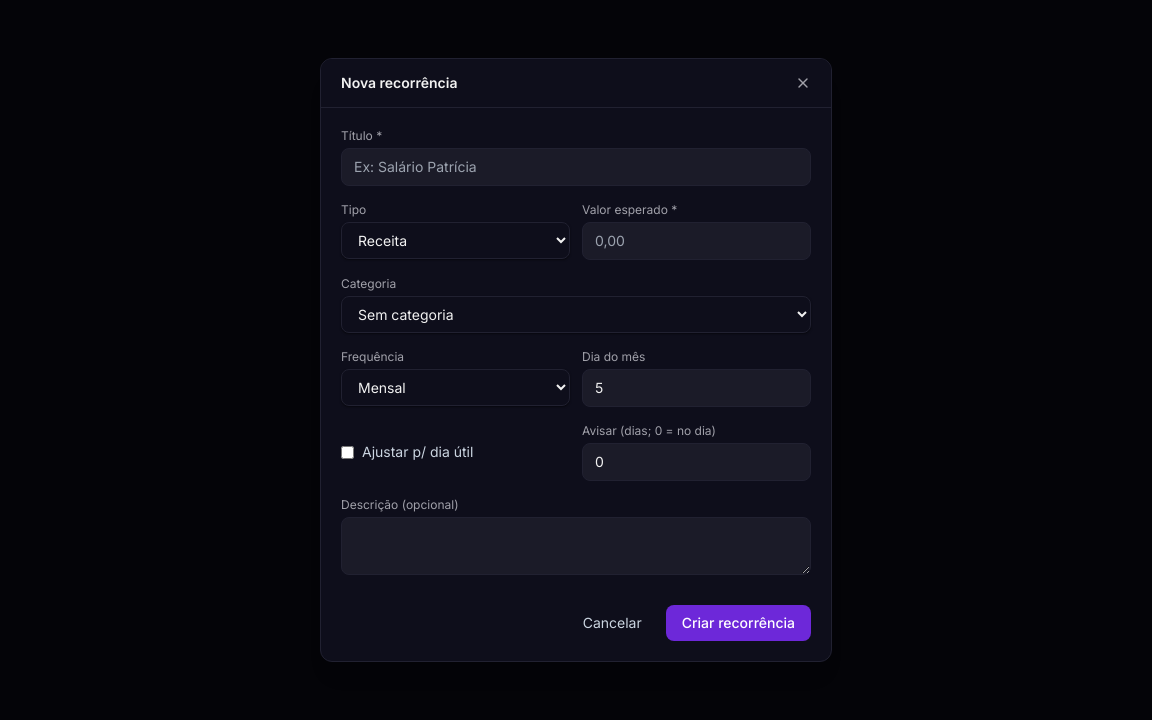
RecorrenciaForm › não submete e mostra erros quando título e valor estão vazios
The image size is (1152, 720).
Click the button "Criar recorrência".
click(738, 623)  # box [666,605,811,641]
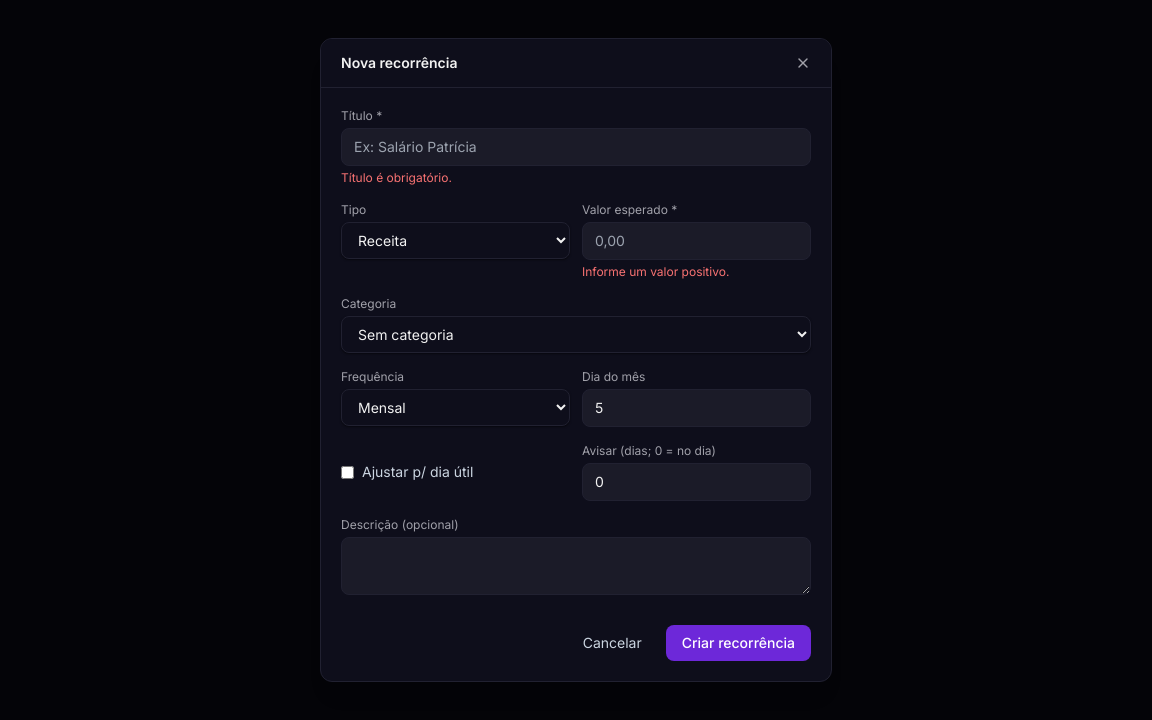
Check: the text "Título é obrigatório." is shown, box [341,170,452,185]
Check: the text "Informe um valor positivo." is shown, box [582,264,729,279]
